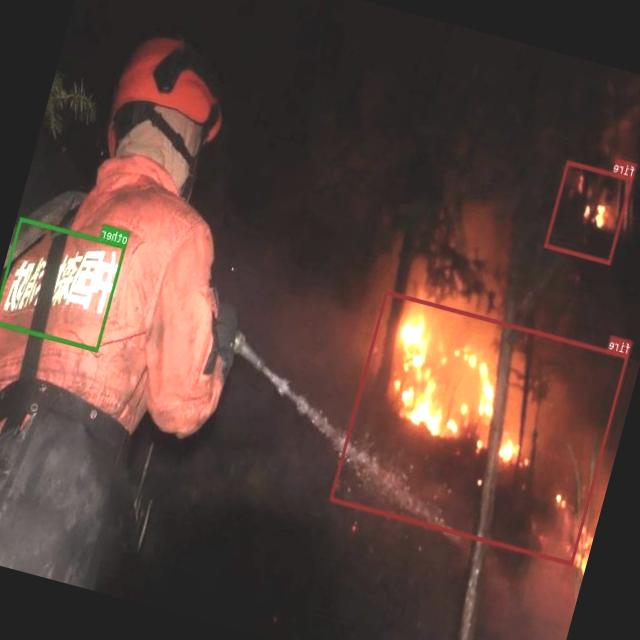fire: (330, 289, 630, 565), (544, 160, 633, 264)
